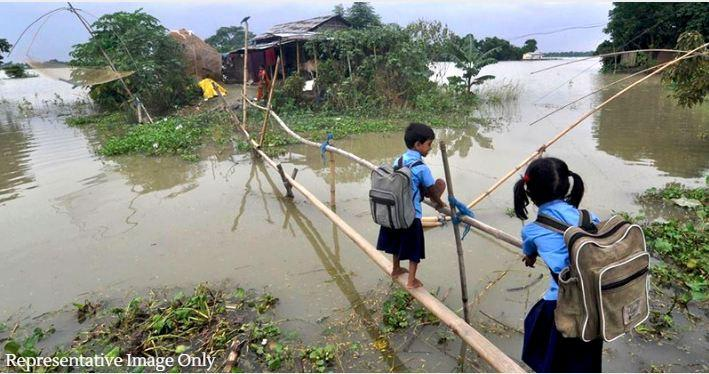victim: (508, 153, 610, 373), (370, 120, 448, 288)
